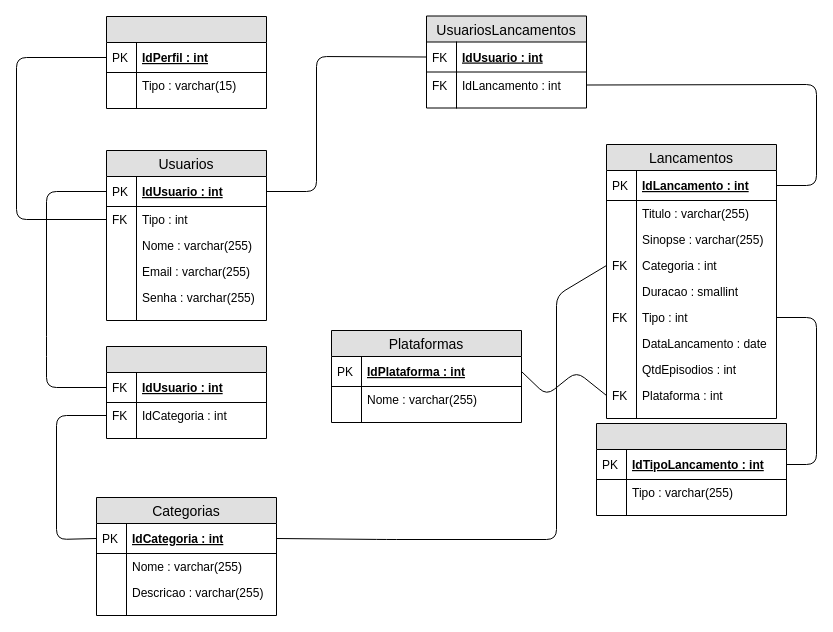
Some shapes in this 833 by 632 pixel diagram are drawn without their labels. Here are the shapes that lost their labels. From the top down, the box of each, then its label:
(106, 16, 266, 108): PerfisUsuarios
(106, 346, 266, 438): UsuariosCategorias
(596, 422, 786, 516): TiposLancamentos
